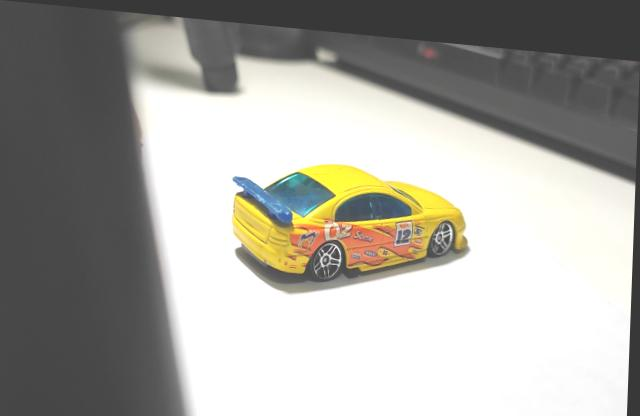02_OZSOME: (232, 157, 469, 276)
